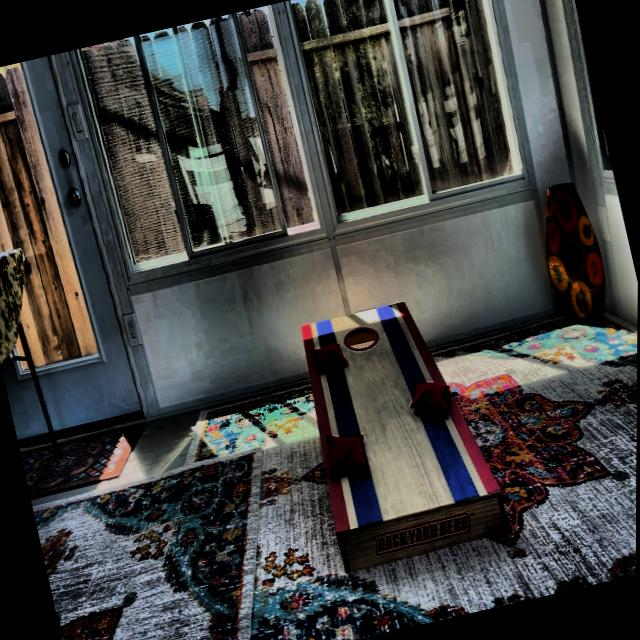board: (295, 297, 466, 528)
hole: (340, 321, 381, 354)
red-bean-bag: (317, 424, 371, 477), (404, 372, 453, 418), (309, 340, 348, 372)
